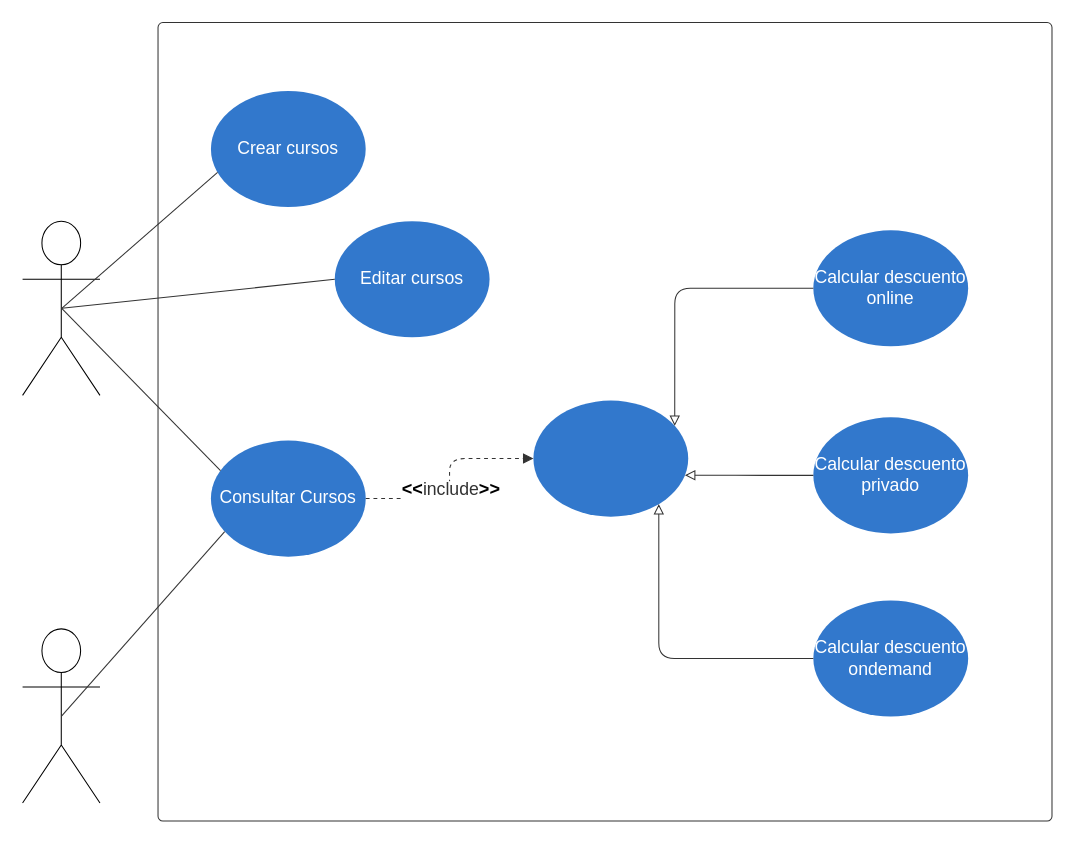
Some shapes in this 1075 by 868 pixel diagram are drawn without their labels. Here are the shapes that lost their labels. From the top down, the centre of each, then its label:
At (60,307): "Operador Sistema".
At (610,458): "Calcular descuento".
At (60,715): "Prospecto Estudiante".
